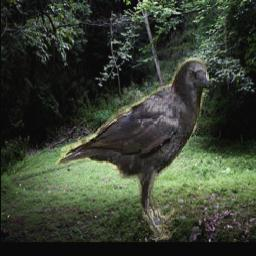Crow: (55, 58, 209, 240)
